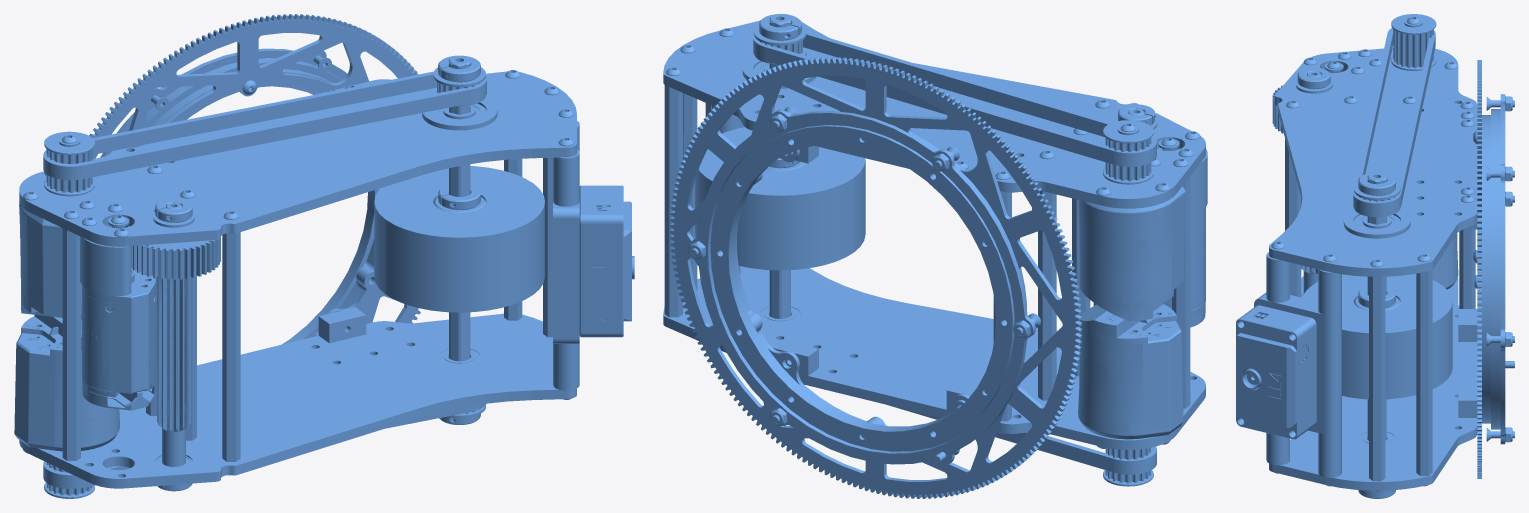
The picture shows the model from 3 angles, left to right: view 1: azimuth 30°, elevation 25°; view 2: azimuth 150°, elevation 25°; view 3: azimuth 270°, elevation 25°; orthographic projection. The views are drawn at different scales.
Visible parts, largest first — view 1: 26G0201 Main Plate__100, 26G0201 Main Plate__34, 4" OD 2"W 35A Fairlane 2476K37__77, 26E0107Gear__17, 5mmBelt-120-9mm-18-18__60, 26G0402__74, Kraken X44 Powered by TalonFX (WCP-0941)__107, LL4__30, Kraken X60 Brushless Motor__37, 6" L #10-32 3/8" Hex Standofff__69, 6" L #10-32 3/8" Hex Standofff__106, Kraken X60 Brushless Motor__57 (+18 smaller); view 2: 26E0107Gear__17, 26G0201 Main Plate__100, 26G0201 Main Plate__34, 26E0101ID Center Clamp__4, 4" OD 2"W 35A Fairlane 2476K37__77, 26E0109Lower OD full ring__13, Kraken X60 Brushless Motor__37, Kraken X60 Brushless Motor__57, 5mmBelt-120-9mm-18-18__60, 6" L #10-32 3/8" Hex Standofff__110, 6" L #10-32 3/8" Hex Standofff__116, 5mmBelt-120-9mm-18-18__125 (+12 smaller); view 3: 26G0201 Main Plate__34, 26G0201 Main Plate__100, LL4__30, 4" OD 2"W 35A Fairlane 2476K37__77, 26G0204__86, 6" L #10-32 3/8" Hex Standofff__123, 5mmBelt-120-9mm-18-18__60, 6" L #10-32 3/8" Hex Standofff__110, Delrin Ring__11, 26E0104Shooter ID Clamp Spacer__18, 26E0109Lower OD full ring__13, 26E0107Gear__17 (+18 smaller).
Boxes of the visible parts, left/top/right/bottom form: 26G0201 Main Plate__100: left=19, top=313, right=576, bottom=488; 26G0201 Main Plate__34: left=19, top=71, right=576, bottom=246; 4" OD 2"W 35A Fairlane 2476K37__77: left=374, top=166, right=544, bottom=312; 26E0107Gear__17: left=89, top=14, right=420, bottom=323; 5mmBelt-120-9mm-18-18__60: left=43, top=71, right=486, bottom=180; 26G0402__74: left=128, top=226, right=220, bottom=466; Kraken X44 Powered by TalonFX (WCP-0941)__107: left=81, top=226, right=155, bottom=410; LL4__30: left=579, top=185, right=634, bottom=337; Kraken X60 Brushless Motor__37: left=14, top=315, right=119, bottom=451; 6" L #10-32 3/8" Hex Standofff__69: left=222, top=232, right=240, bottom=461; 6" L #10-32 3/8" Hex Standofff__106: left=62, top=228, right=80, bottom=460; Kraken X60 Brushless Motor__57: left=19, top=196, right=81, bottom=319; 26E0107Gear__17: left=670, top=57, right=1081, bottom=498; 26G0201 Main Plate__100: left=663, top=266, right=1205, bottom=449; 26G0201 Main Plate__34: left=663, top=20, right=1205, bottom=208; 26E0101ID Center Clamp__4: left=711, top=125, right=1014, bottom=449; 4" OD 2"W 35A Fairlane 2476K37__77: left=695, top=127, right=865, bottom=270; 26E0109Lower OD full ring__13: left=690, top=109, right=1035, bottom=465; Kraken X60 Brushless Motor__37: left=1078, top=303, right=1183, bottom=439; Kraken X60 Brushless Motor__57: left=1078, top=184, right=1185, bottom=321; 5mmBelt-120-9mm-18-18__60: left=753, top=31, right=1156, bottom=166; 6" L #10-32 3/8" Hex Standofff__110: left=664, top=85, right=682, bottom=317; 6" L #10-32 3/8" Hex Standofff__116: left=1038, top=191, right=1056, bottom=400; 5mmBelt-120-9mm-18-18__125: left=888, top=405, right=1156, bottom=474; 26G0201 Main Plate__34: left=1269, top=48, right=1477, bottom=276; 26G0201 Main Plate__100: left=1269, top=276, right=1477, bottom=490; LL4__30: left=1236, top=305, right=1316, bottom=439; 4" OD 2"W 35A Fairlane 2476K37__77: left=1302, top=274, right=1452, bottom=399; 26G0204__86: left=1254, top=292, right=1341, bottom=434; 6" L #10-32 3/8" Hex Standofff__123: left=1369, top=276, right=1385, bottom=481; 5mmBelt-120-9mm-18-18__60: left=1353, top=28, right=1435, bottom=215; 6" L #10-32 3/8" Hex Standofff__110: left=1416, top=270, right=1432, bottom=475; Delrin Ring__11: left=1491, top=109, right=1500, bottom=429; 26E0104Shooter ID Clamp Spacer__18: left=1482, top=115, right=1490, bottom=423; 26E0109Lower OD full ring__13: left=1500, top=94, right=1505, bottom=444; 26E0107Gear__17: left=1477, top=60, right=1481, bottom=478.
Bounding box in the file's own units: 0.3704 × 0.2819 × 0.1876.
